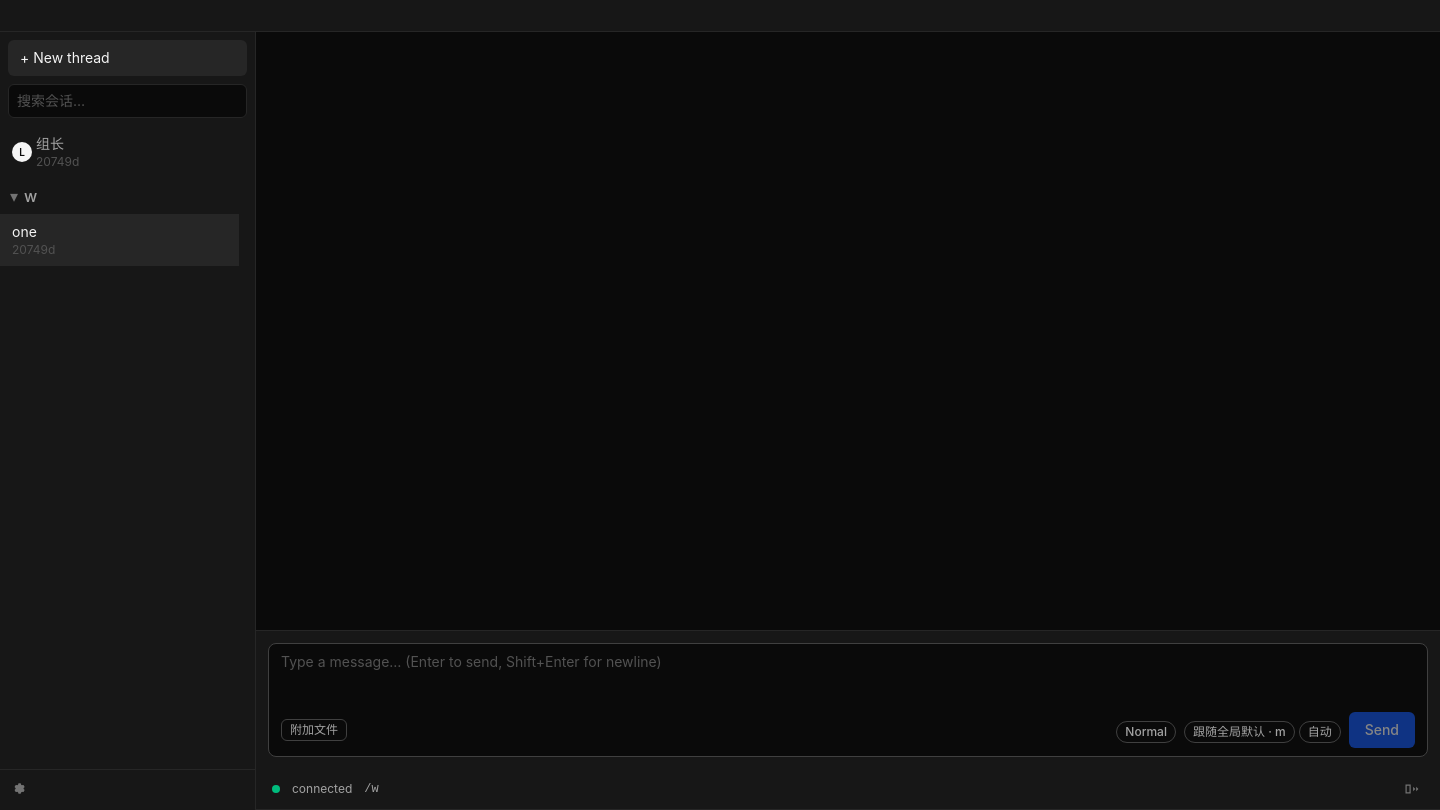
App approval focus › does not steal focus from an in-progress thread rename
The user starts renaming t1 while it runs.
Double-click the text "one" at (24, 232), box x1=12 y1=222 x2=37 y2=242
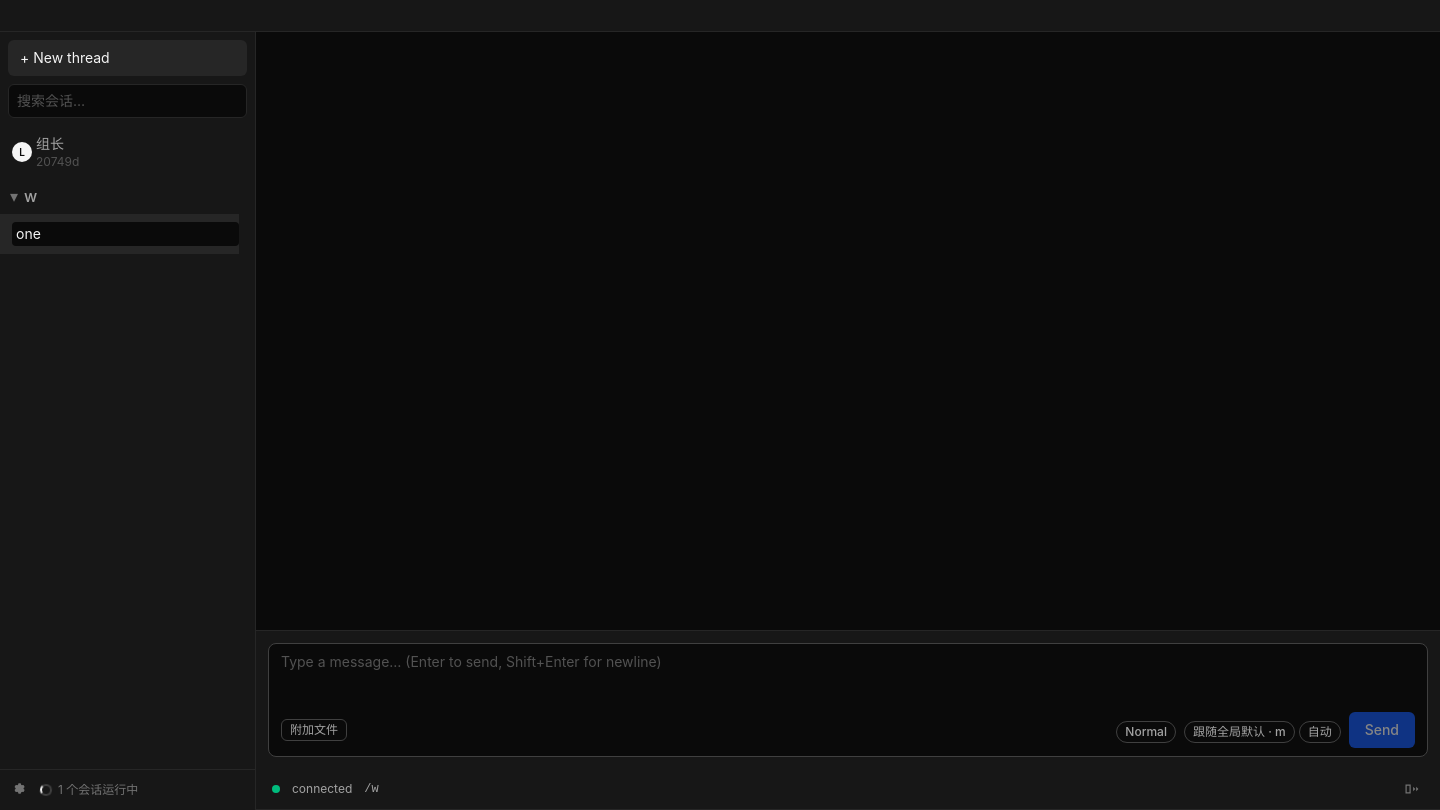
Check: the field is shown
Replace the text in the field with "half-typed" at (126, 234), box x1=12 y1=222 x2=239 y2=246
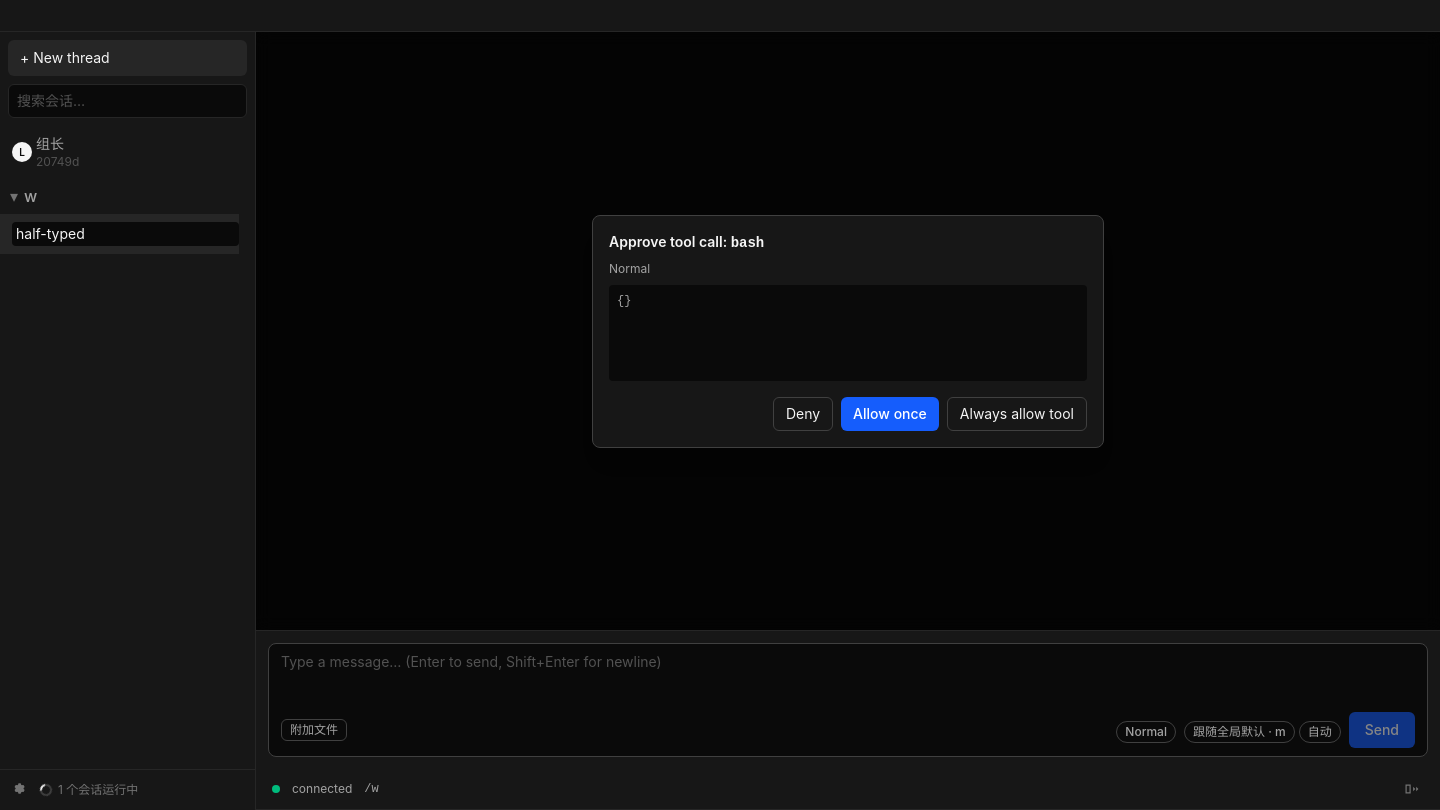
Check: the dialog is shown, box x1=592 y1=214 x2=1104 y2=448
